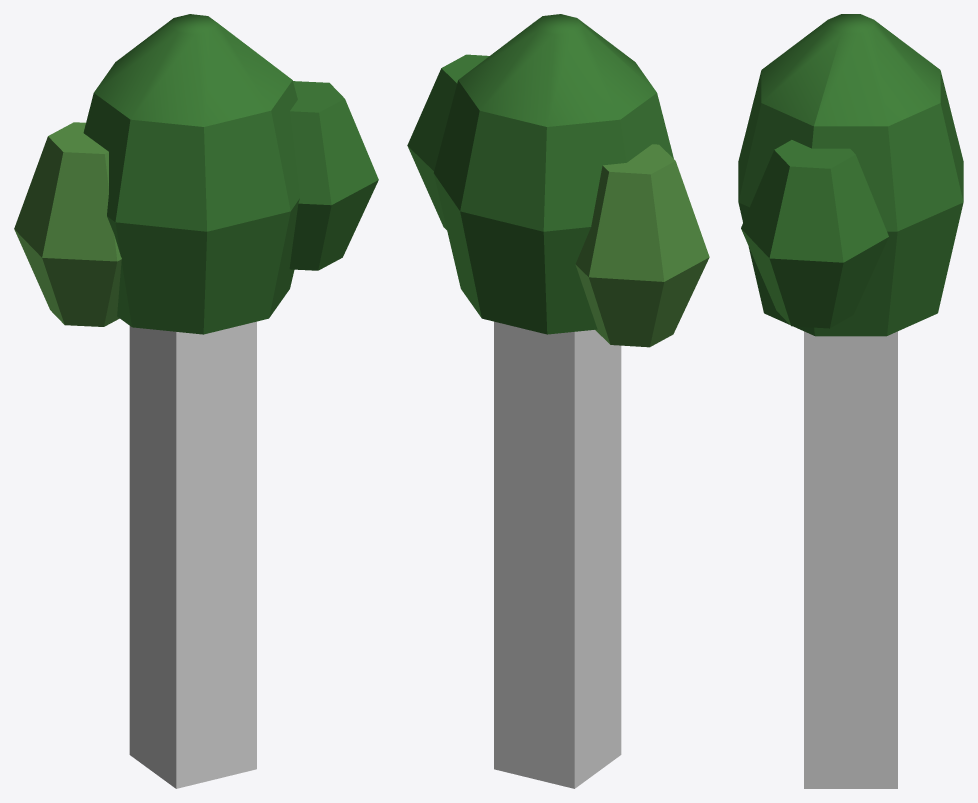
File: prop_tree.glb
The picture shows the model from 3 angles, left to right: view 1: azimuth 30°, elevation 25°; view 2: azimuth 150°, elevation 25°; view 3: azimuth 270°, elevation 25°; orthographic projection.
Parts seen in each view (by area): view 1: prop_tree_lod0, prop_tree_col; view 2: prop_tree_lod0, prop_tree_col; view 3: prop_tree_lod0, prop_tree_col.
Part boxes in pixels (bbox=[...]): prop_tree_lod0: bbox=[14, 14, 378, 334]; prop_tree_col: bbox=[129, 321, 256, 788]; prop_tree_lod0: bbox=[407, 14, 709, 347]; prop_tree_col: bbox=[494, 321, 621, 788]; prop_tree_lod0: bbox=[738, 14, 963, 336]; prop_tree_col: bbox=[804, 331, 897, 788].
Bounding box in the file's own units: 1.29 × 2.97 × 0.813.
